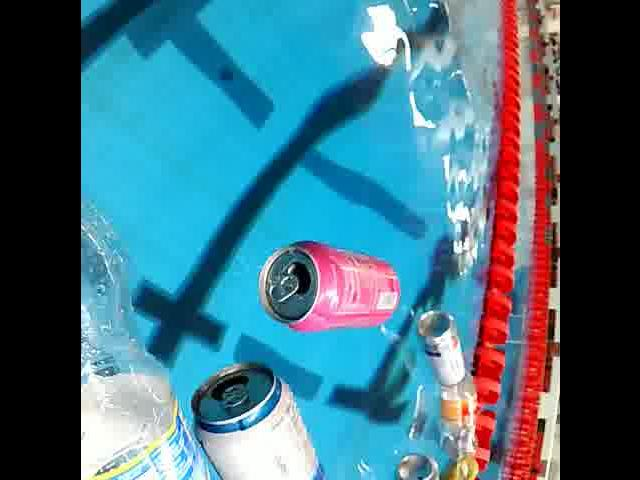Bottle: (80, 188, 224, 480), (434, 368, 480, 464)
Can: (184, 358, 332, 480), (250, 238, 402, 330), (412, 309, 467, 390), (396, 447, 442, 480), (432, 454, 476, 480)
